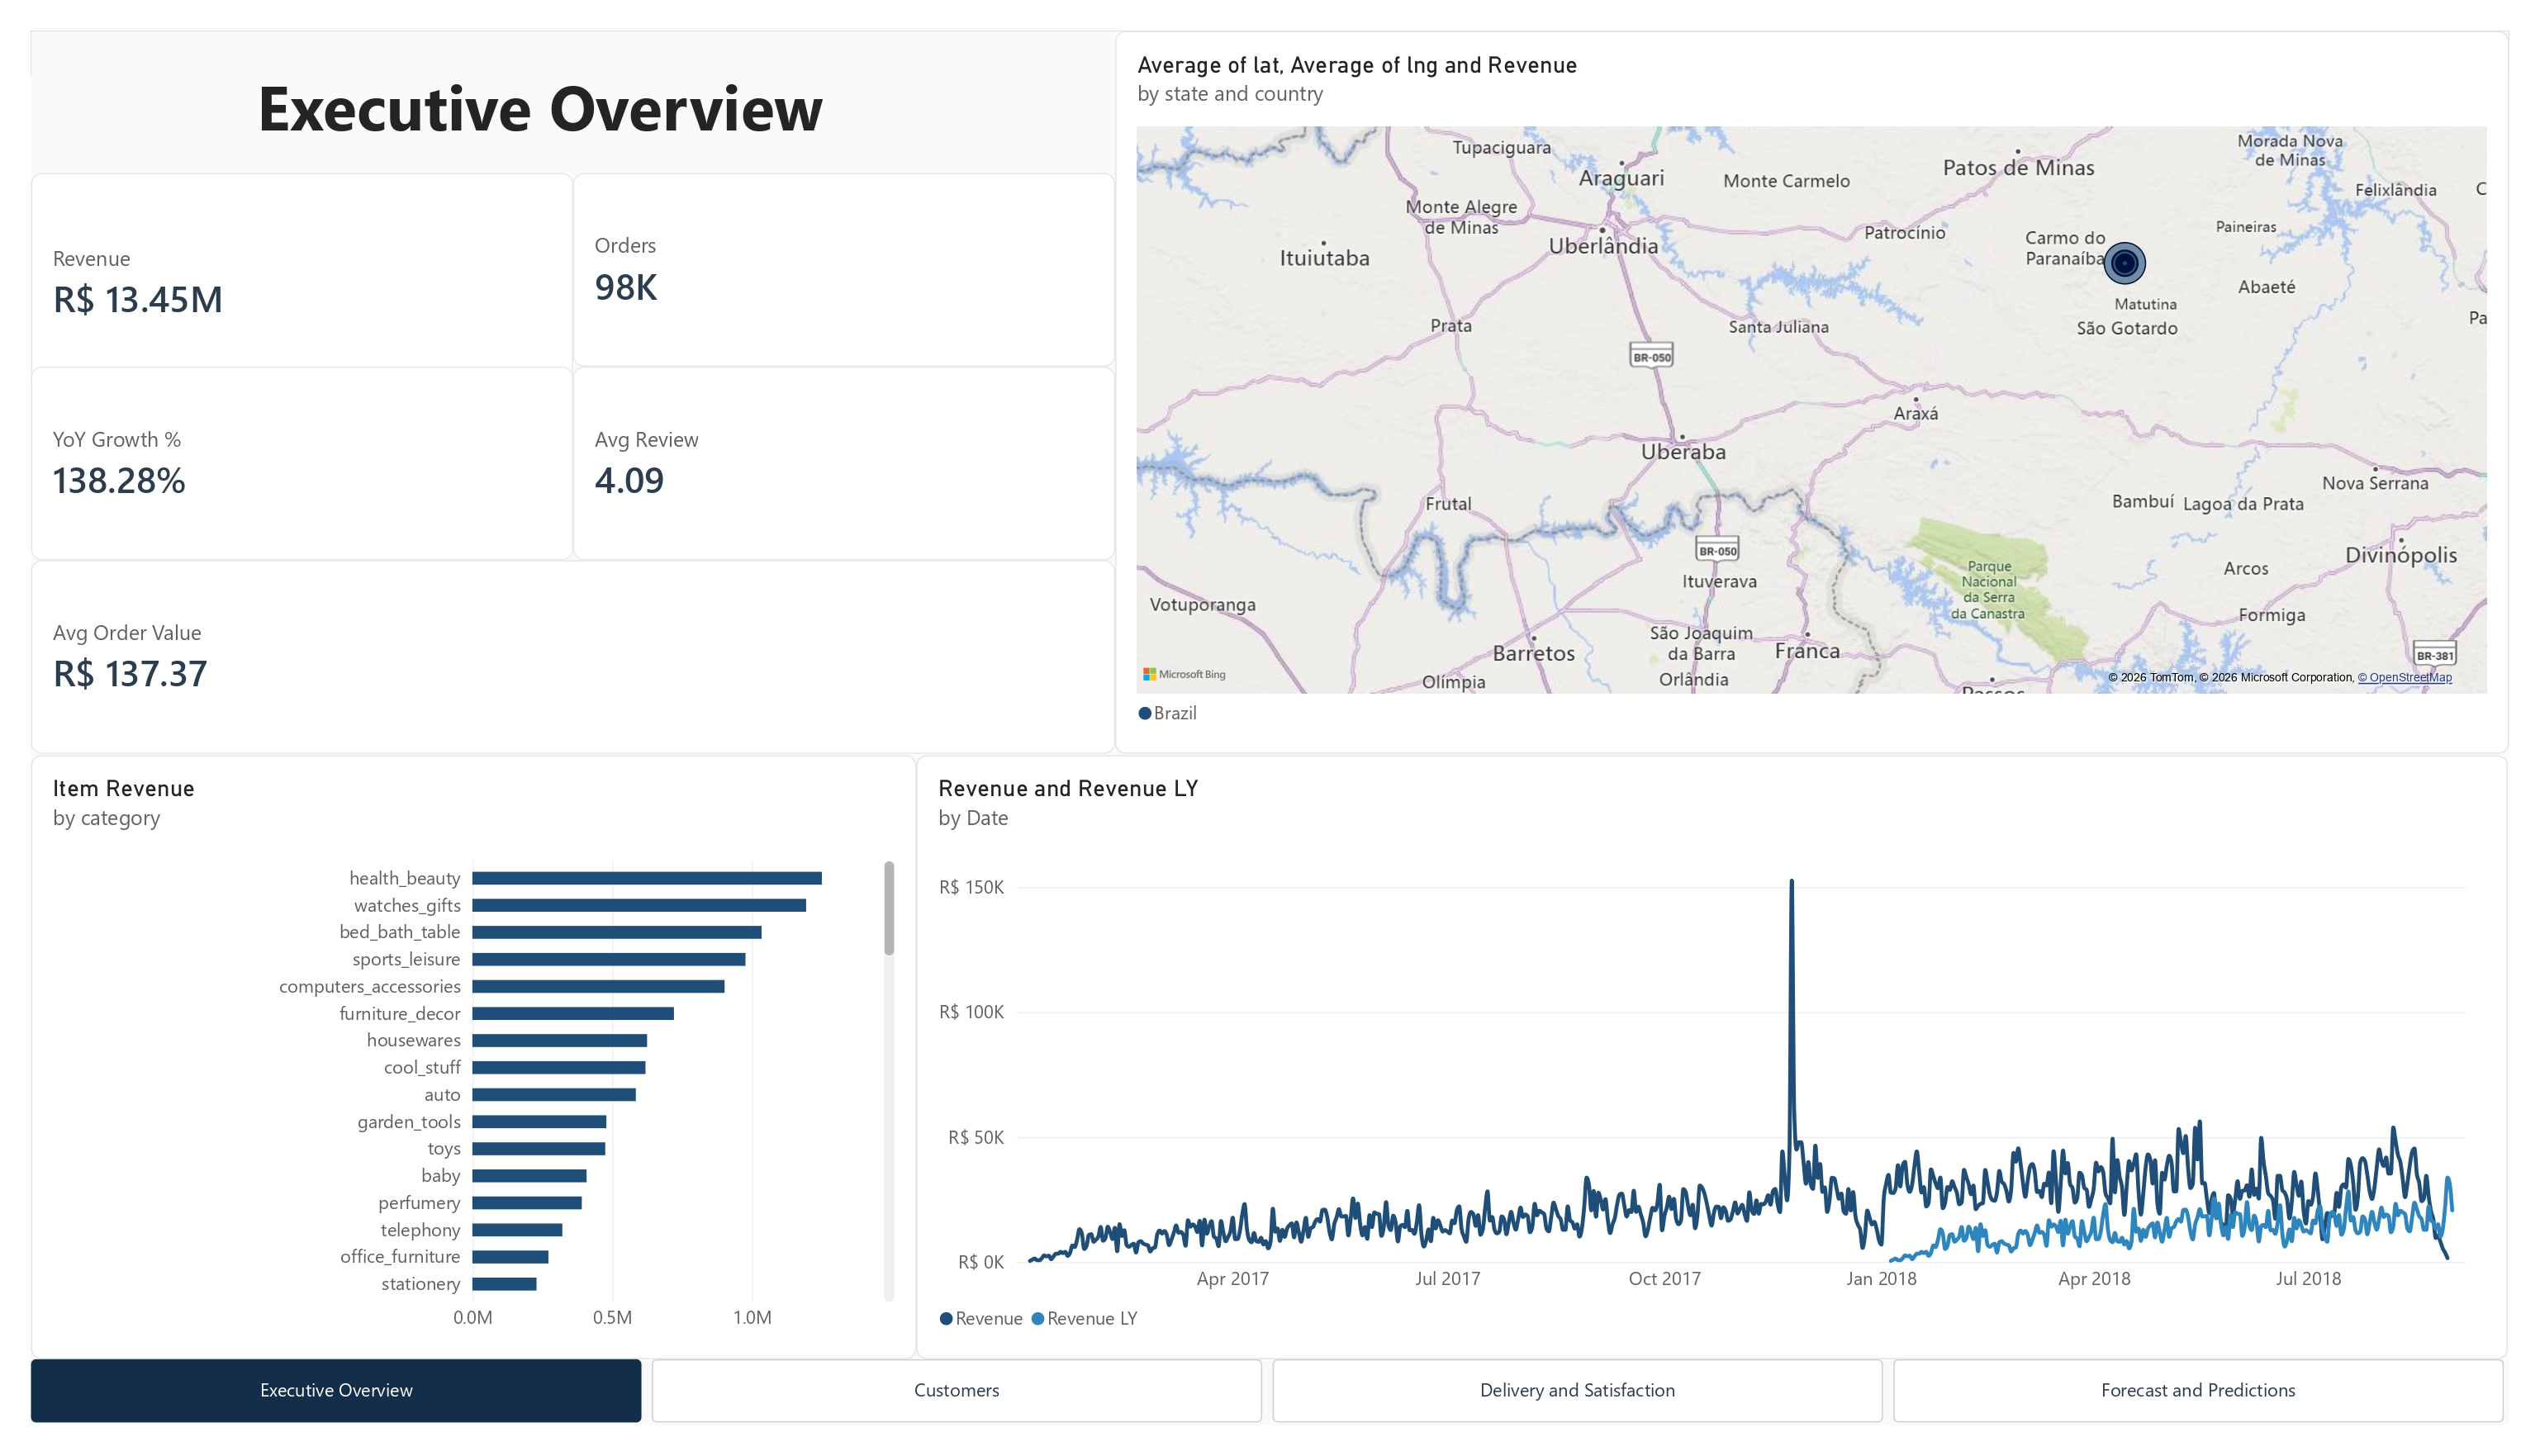

This screenshot's page, from the dashboard's own definition file:
{"tool":"powerbi","page":{"name":"Executive Overview","canvas":[1920,1080],"ordinal":0},"visuals":[{"type":"cardVisual","fields":{"Data":["_Measure.Revenue"]},"box":[0,110,420,170],"z":0},{"type":"cardVisual","fields":{"Data":["_Measure.Orders"]},"box":[420,110,420,150],"z":1000},{"type":"cardVisual","fields":{"Data":["_Measure.Avg Order Value"]},"box":[0,410,840,150],"z":2000},{"type":"cardVisual","fields":{"Data":["_Measure.YoY Growth %"]},"box":[0,260,420,150],"z":3000},{"type":"cardVisual","fields":{"Data":["_Measure.Avg Review"]},"box":[420,260,420,150],"z":4000},{"type":"lineChart","fields":{"Category":["Date.Date"],"Y":["_Measure.Revenue","_Measure.Revenue LY"]},"box":[685.9,561,1233.3,467.9],"z":5000},{"type":"clusteredBarChart","fields":{"Category":["dim_products.category"],"Y":["_Measure.Item Revenue"]},"box":[0,561,685.9,467.9],"z":6000},{"type":"map","fields":{"Category":["dim_customers.state"],"Series":["dim_customers.country"],"Size":["_Measure.Revenue"],"X":["Avg(dim_geo.lng)"],"Y":["Avg(dim_geo.lat)"]},"box":[840,0,1080,560],"z":7000},{"type":"textbox","box":[1650,0,270,400],"z":8000},{"type":"textbox","box":[175,25,455,85],"z":9000},{"type":"pageNavigator","box":[0,1028.9,1919.3,50],"z":10000}]}

Visuals, with their boxes on the page's 1920x1080 design canvas (x1, y1, x2, y2). These are canvas units, not pixel positions in the 2540x1456 screenshot, which may show the page scaled, cropped or inside an application window:
cardVisual - _Measure.Revenue: left=0, top=110, right=420, bottom=280
cardVisual - _Measure.Orders: left=420, top=110, right=840, bottom=260
cardVisual - _Measure.Avg Order Value: left=0, top=410, right=840, bottom=560
cardVisual - _Measure.YoY Growth %: left=0, top=260, right=420, bottom=410
cardVisual - _Measure.Avg Review: left=420, top=260, right=840, bottom=410
lineChart - Date.Date x _Measure.Revenue: left=686, top=561, right=1919, bottom=1029
clusteredBarChart - dim_products.category x _Measure.Item Revenue: left=0, top=561, right=686, bottom=1029
map - dim_customers.state x dim_customers.country: left=840, top=0, right=1920, bottom=560
textbox: left=1650, top=0, right=1920, bottom=400
textbox: left=175, top=25, right=630, bottom=110
pageNavigator: left=0, top=1029, right=1919, bottom=1079
